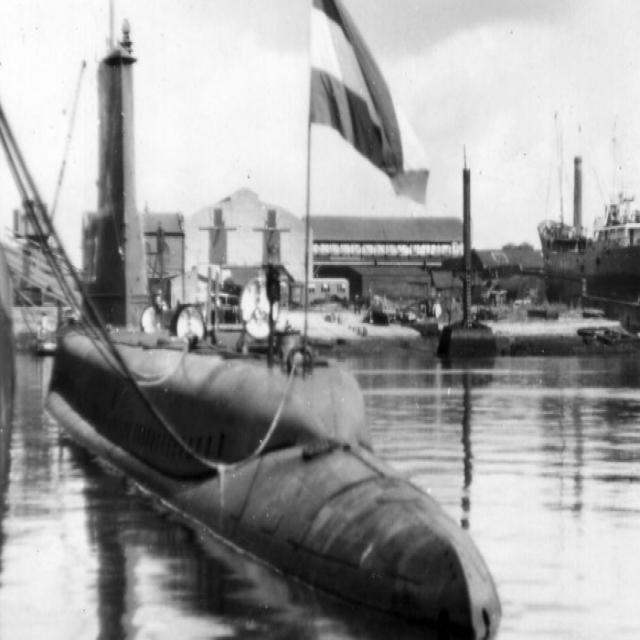submarine: (39, 11, 511, 640)
